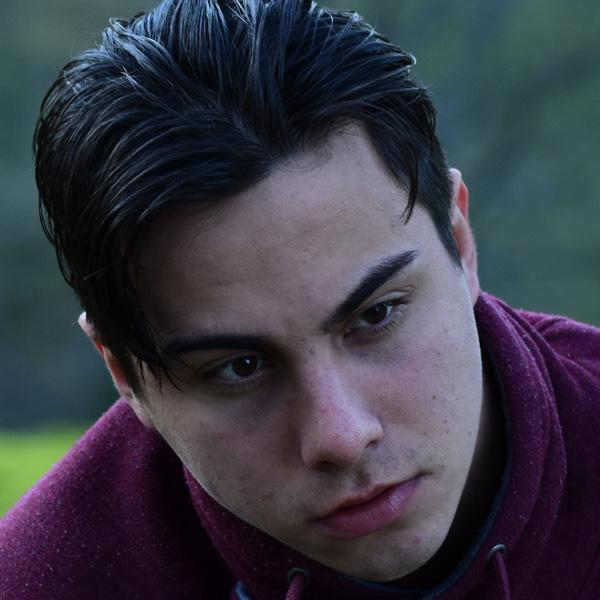Eyes: (337, 280, 419, 348), (192, 342, 279, 399)
